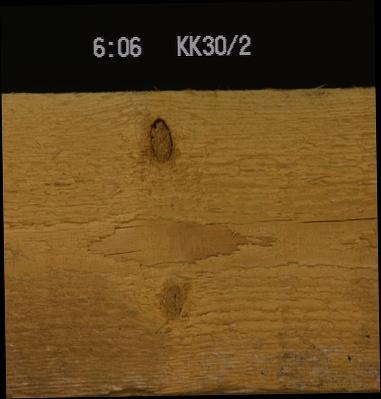dry_knot: (146, 116, 173, 165)
sound_knot: (157, 279, 189, 322)
split: (300, 214, 376, 224), (112, 221, 146, 230), (102, 247, 140, 255)
wave: (98, 381, 249, 394)
